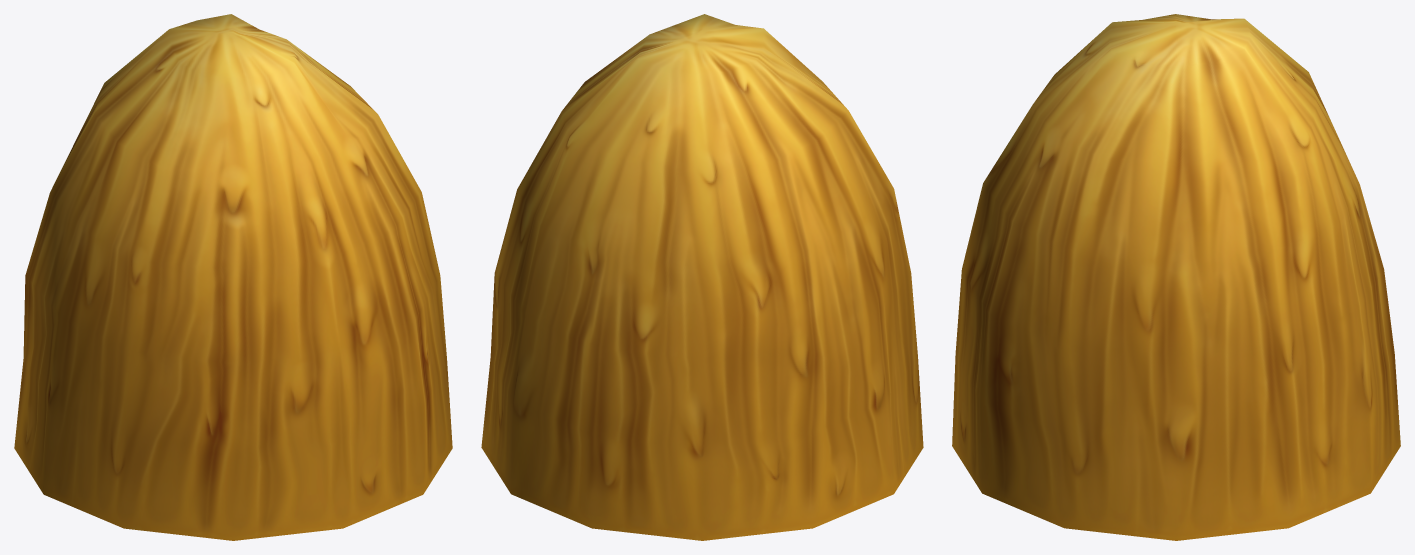
Rendered from HayCock_Straw.fbx.
3 views of the same model, side by side, from view 1: azimuth 30°, elevation 25°; view 2: azimuth 150°, elevation 25°; view 3: azimuth 270°, elevation 25° (orthographic). The views are drawn at different scales.
Visible parts, largest first — view 1: HayCock_Straw; view 2: HayCock_Straw; view 3: HayCock_Straw.
Boxes of the visible parts, x1,y1,x2,y2 form: HayCock_Straw: [14, 14, 452, 540]; HayCock_Straw: [481, 14, 923, 540]; HayCock_Straw: [952, 14, 1400, 540].
Bounding box in the file's own units: 383 × 398 × 383.
